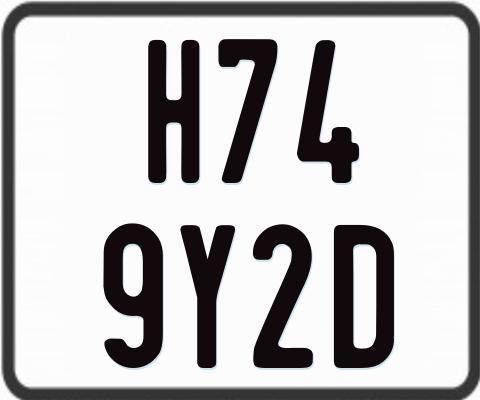2: (252, 222, 313, 370)
4: (297, 37, 359, 185)
7: (218, 39, 280, 186)
9: (101, 223, 164, 374)
D: (331, 222, 392, 371)
H: (145, 39, 200, 188)
Y: (179, 225, 239, 371)
